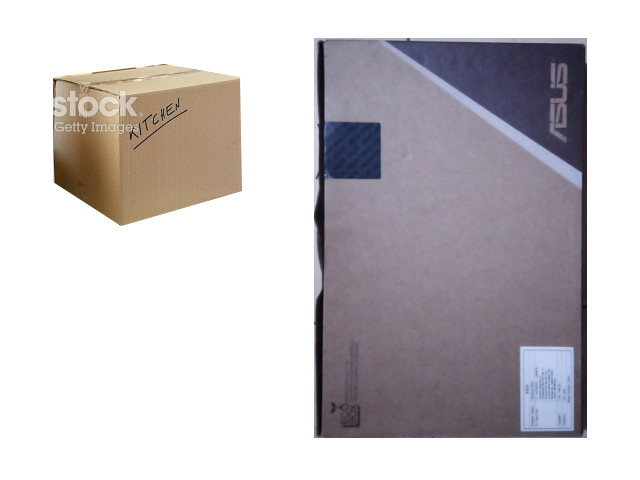cardboard: (315, 39, 589, 439), (51, 64, 241, 224)
